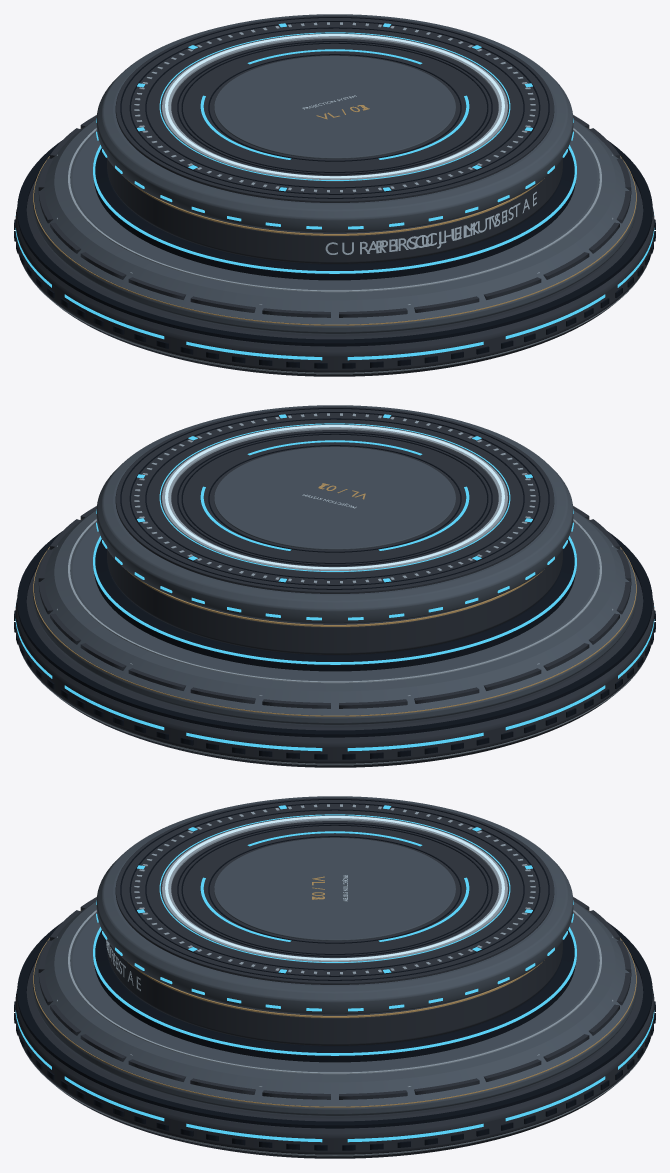
Rendered from Sockel_de_web.glb.
3 views of the same model, one above another, from view 1: azimuth 30°, elevation 25°; view 2: azimuth 150°, elevation 25°; view 3: azimuth 270°, elevation 25° (orthographic).
Visible parts, largest first — view 1: abschluss-geometry, lebenslauf-geometry; view 2: abschluss-geometry; view 3: abschluss-geometry.
Boxes of the visible parts, bbox=[...] form: abschluss-geometry: bbox=[14, 14, 655, 376]; lebenslauf-geometry: bbox=[302, 95, 536, 254]; abschluss-geometry: bbox=[14, 405, 655, 767]; abschluss-geometry: bbox=[14, 796, 655, 1158].
Size of the model in its own units: 7.43 by 1.8 by 7.43.
